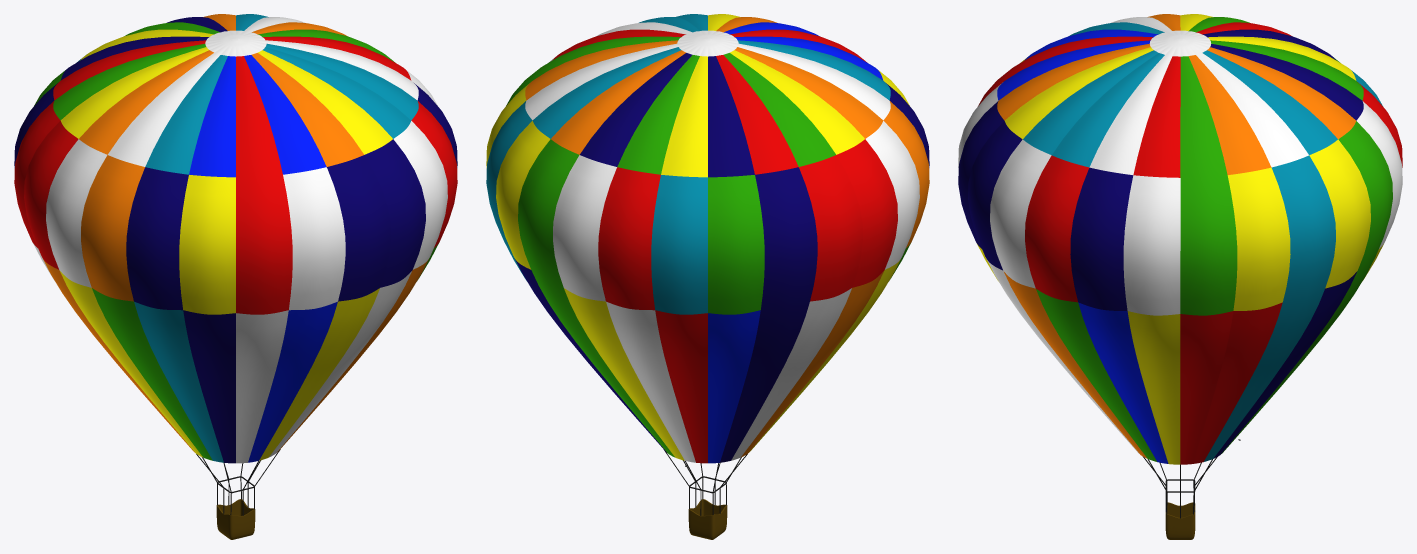
The model's file is 3D_Balloon_2.fbx.
3 views of the same model, side by side, from view 1: azimuth 30°, elevation 25°; view 2: azimuth 150°, elevation 25°; view 3: azimuth 270°, elevation 25° (orthographic).
Parts seen in each view (by area): view 1: 3D_Balloon_2; view 2: 3D_Balloon_2; view 3: 3D_Balloon_2.
Boxes of the visible parts, box(x1,y1,x2,y2) form: 3D_Balloon_2: box(14, 14, 457, 539); 3D_Balloon_2: box(486, 14, 929, 539); 3D_Balloon_2: box(958, 14, 1402, 539).
Size of the model in its own units: 2651 by 3261 by 2651.
